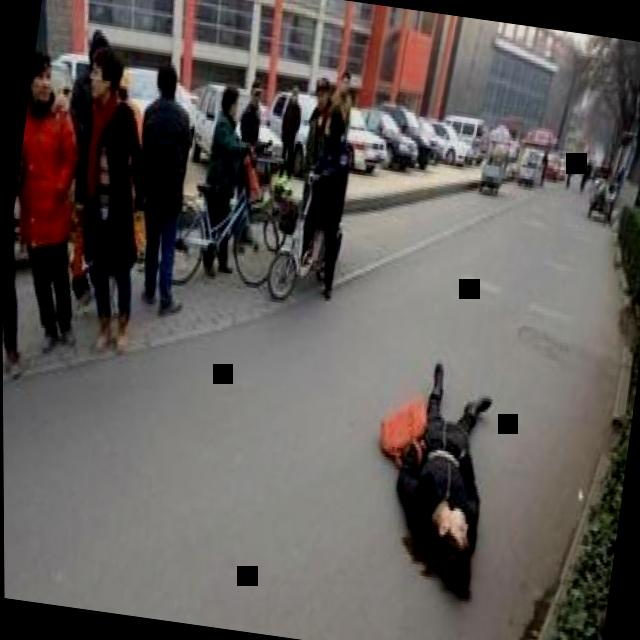Fall-Detected: (348, 348, 515, 598)
